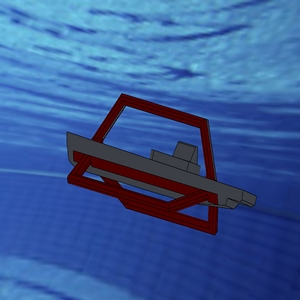submarine: (38, 72, 245, 249)
